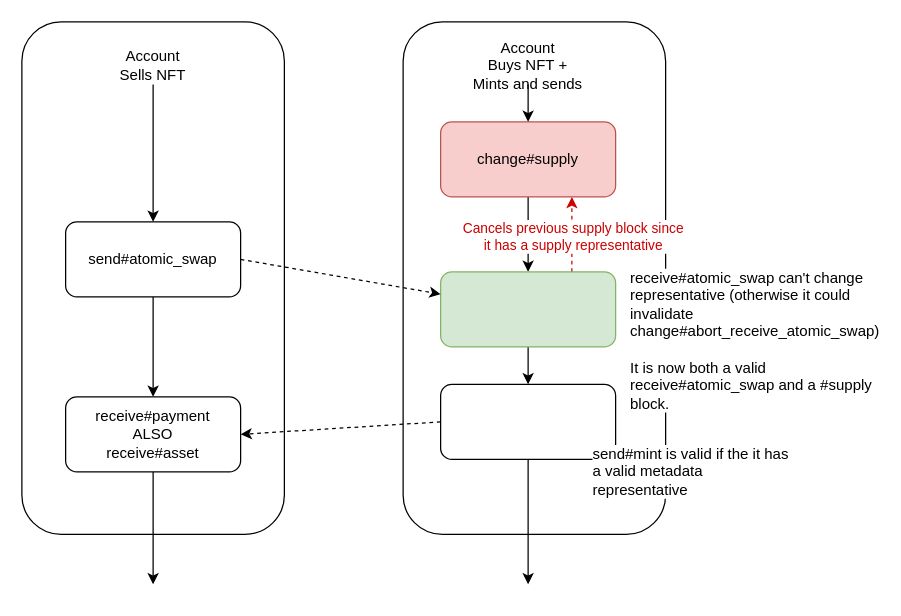
This 901x616 diagram has some shape labels left out. The centre of each missing label's shape, as x and y in pixels:
receive#supply ALSO receive#atomic_swap: (527,309)
send#payment ALSO send#mint: (527,421)
